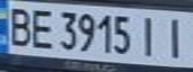1: (93, 11, 115, 54)
3: (54, 8, 78, 52)
5: (112, 11, 136, 56)
9: (75, 9, 96, 53)
B: (3, 3, 36, 47)
E: (27, 6, 57, 51)
I: (160, 13, 193, 60), (136, 12, 166, 57)
